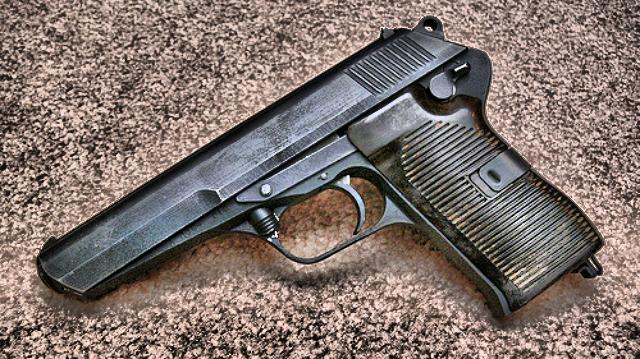pistol: (31, 20, 604, 312)
